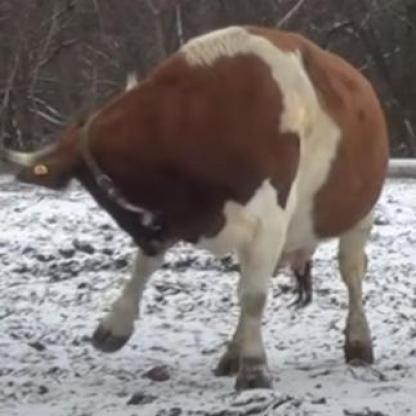cow: (19, 28, 389, 392)
